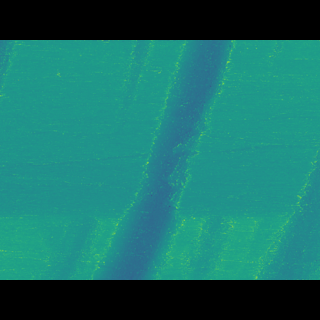Loch: (35, 69, 242, 251), (250, 151, 320, 250)
